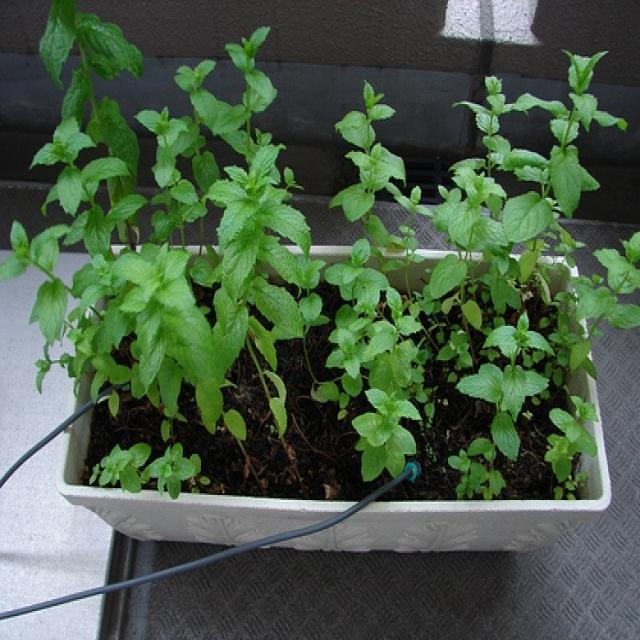pottedplant: (11, 1, 638, 562)
